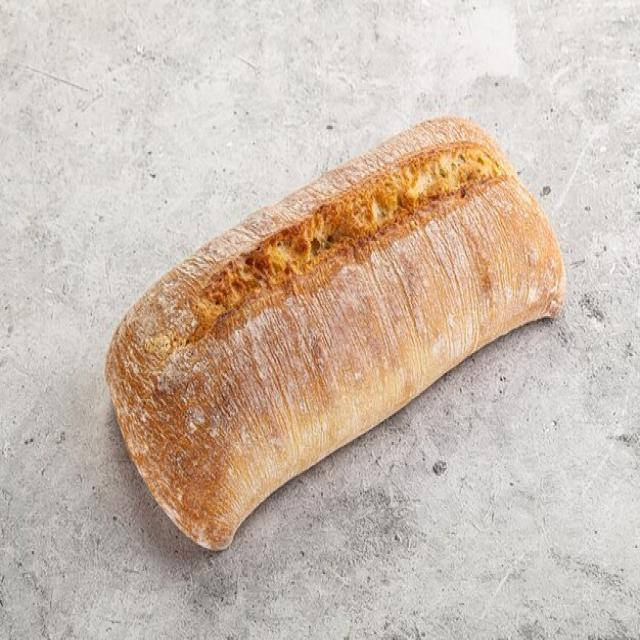Ciabatta: (105, 118, 564, 549)
